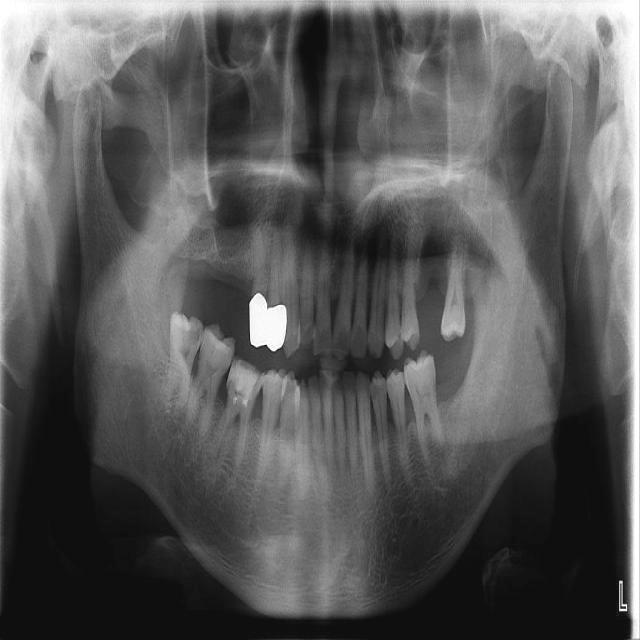Filling: (226, 354, 264, 408), (248, 292, 269, 347), (264, 304, 287, 351)
Missing teeth: (211, 264, 251, 325), (416, 286, 447, 333), (434, 355, 463, 404)
impacted tooth: (163, 313, 206, 429)
